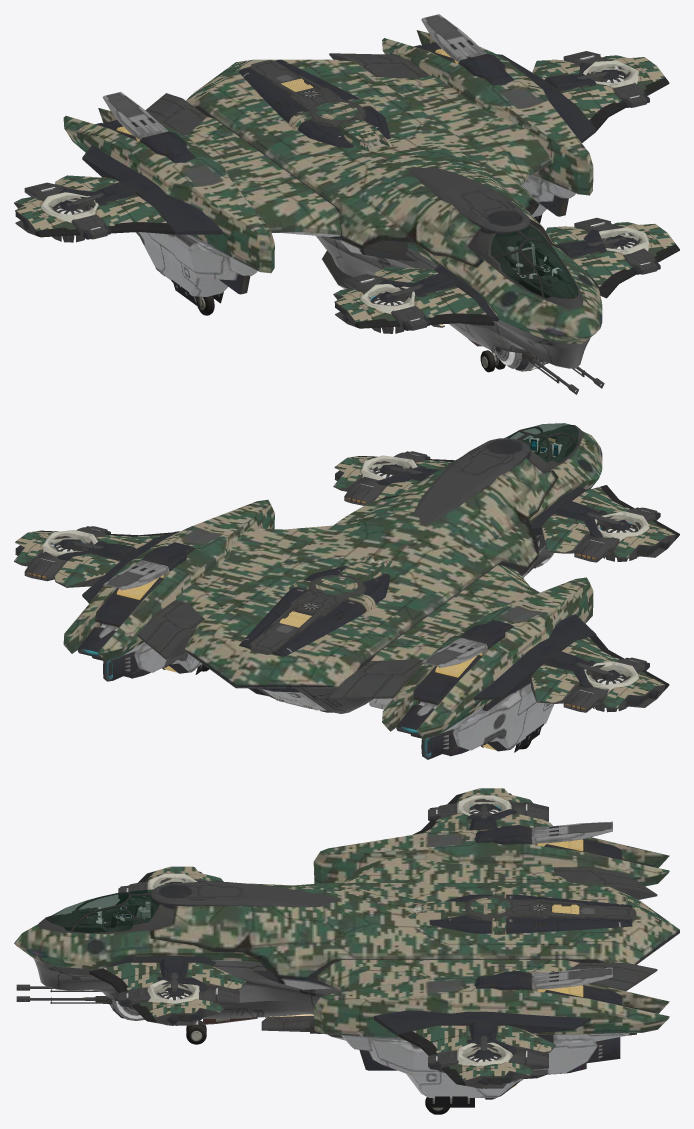
File: cand-c.glb
3 views of the same model, one above another, from view 1: azimuth 30°, elevation 25°; view 2: azimuth 150°, elevation 25°; view 3: azimuth 270°, elevation 25° (orthographic). The views are drawn at different scales.
Visible parts, largest first — view 1: hull; view 2: hull; view 3: hull.
Boxes of the visible parts, x1=… form: hull: x1=14, y1=14, x2=679, y2=394; hull: x1=14, y1=423, x2=679, y2=759; hull: x1=14, y1=788, x2=679, y2=1114.
Bounding box in the file's own units: 24 × 5.82 × 23.38.
Materials: 10 (10 with a texture image).
